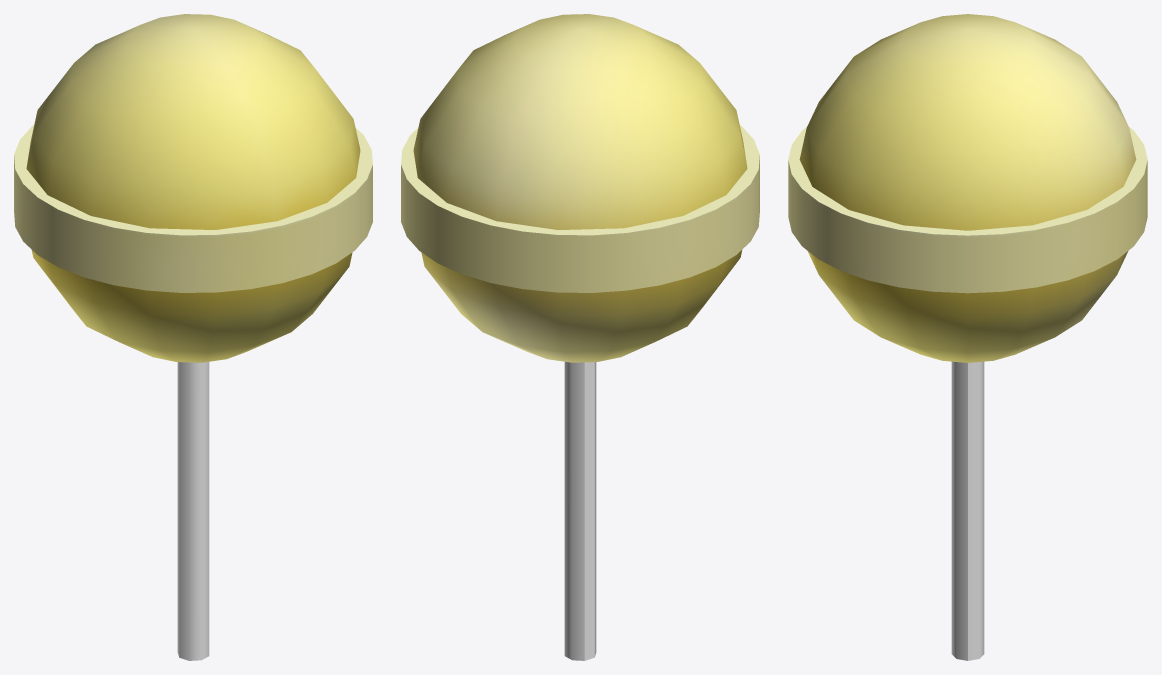
File: candy.FBX
The picture shows the model from 3 angles, left to right: view 1: azimuth 30°, elevation 25°; view 2: azimuth 150°, elevation 25°; view 3: azimuth 270°, elevation 25°; orthographic projection.
Parts seen in each view (by area): view 1: candy; view 2: candy; view 3: candy.
Part boxes in pixels (<box>): candy: <box>14,14,372,660</box>; candy: <box>401,14,759,660</box>; candy: <box>788,14,1147,660</box>.
Bounding box in the file's own units: 20.57 × 39.41 × 20.57.
